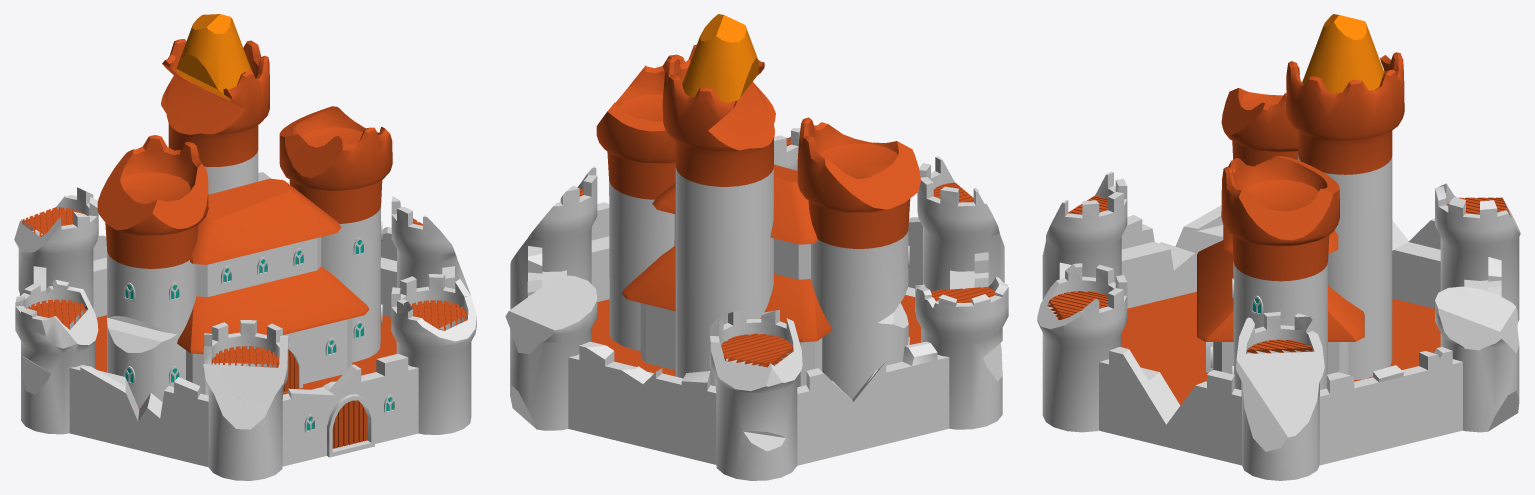
The model's file is CS_Hexagon_Castle_Stage02.fbx.
3 views of the same model, side by side, from view 1: azimuth 30°, elevation 25°; view 2: azimuth 150°, elevation 25°; view 3: azimuth 270°, elevation 25° (orthographic). The views are drawn at different scales.
Parts seen in each view (by area): view 1: Hexagon_Castle_Stage2; view 2: Hexagon_Castle_Stage2; view 3: Hexagon_Castle_Stage2.
Part boxes in pixels (bbox=[...]): Hexagon_Castle_Stage2: bbox=[14, 14, 476, 480]; Hexagon_Castle_Stage2: bbox=[505, 14, 1008, 480]; Hexagon_Castle_Stage2: bbox=[1037, 14, 1520, 480].
Bounding box in the file's own units: 1117 × 809 × 1001.
